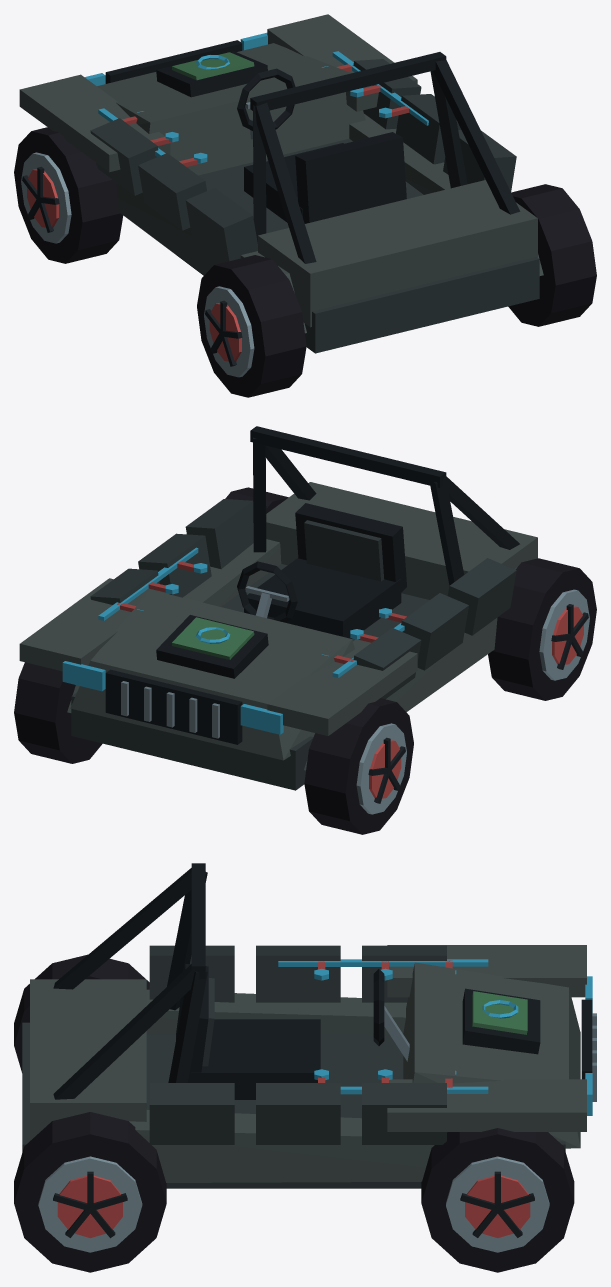
Rendered from kart.glb.
3 views of the same model, one above another, from view 1: azimuth 30°, elevation 25°; view 2: azimuth 150°, elevation 25°; view 3: azimuth 270°, elevation 25° (orthographic). The views are drawn at different scales.
Visible parts, largest first — view 1: identity-jeep-jeep-offroad-frame, identity-jeep-motif-armor, wheel-rear-left, wheel-front-left, identity-jeep-driver-cockpit, wheel-rear-right, identity-jeep-motif-scanner, identity-jeep-motif-circuit; view 2: identity-jeep-jeep-offroad-frame, identity-jeep-motif-armor, identity-jeep-driver-cockpit, wheel-rear-left, wheel-front-left, wheel-front-right, identity-jeep-motif-scanner, identity-jeep-motif-circuit, wheel-rear-right; view 3: identity-jeep-jeep-offroad-frame, identity-jeep-motif-armor, wheel-rear-right, wheel-front-right, identity-jeep-driver-cockpit, identity-jeep-motif-scanner, identity-jeep-motif-circuit, wheel-rear-left.
Part boxes in pixels (x1=…): identity-jeep-jeep-offroad-frame: x1=19, y1=14, x2=543, y2=353; identity-jeep-motif-armor: x1=90, y1=59, x2=516, y2=261; wheel-rear-left: x1=197, y1=255, x2=306, y2=397; wheel-front-left: x1=14, y1=127, x2=123, y2=263; identity-jeep-driver-cockpit: x1=237, y1=68, x2=406, y2=223; wheel-rear-right: x1=508, y1=184, x2=596, y2=326; identity-jeep-motif-scanner: x1=156, y1=51, x2=267, y2=97; identity-jeep-motif-circuit: x1=98, y1=51, x2=428, y2=166; identity-jeep-jeep-offroad-frame: x1=19, y1=426, x2=537, y2=790; identity-jeep-motif-armor: x1=90, y1=499, x2=516, y2=699; identity-jeep-driver-cockpit: x1=237, y1=503, x2=406, y2=638; wheel-rear-left: x1=488, y1=558, x2=596, y2=700; wheel-front-left: x1=304, y1=698, x2=413, y2=834; wheel-front-right: x1=14, y1=662, x2=102, y2=763; identity-jeep-motif-scanner: x1=156, y1=615, x2=268, y2=678; identity-jeep-motif-circuit: x1=98, y1=547, x2=406, y2=677; wheel-rear-right: x1=225, y1=487, x2=288, y2=513; identity-jeep-jeep-offroad-frame: x1=22, y1=863, x2=596, y2=1188; identity-jeep-motif-armor: x1=149, y1=945, x2=446, y2=1144; wheel-rear-right: x1=14, y1=1112, x2=166, y2=1272; wheel-front-right: x1=421, y1=1128, x2=574, y2=1272; identity-jeep-driver-cockpit: x1=176, y1=964, x2=409, y2=1099; identity-jeep-motif-scanner: x1=462, y1=988, x2=540, y2=1054; identity-jeep-motif-circuit: x1=278, y1=959, x2=488, y2=1094; wheel-rear-left: x1=14, y1=954, x2=149, y2=1072.
Size of the model in its own units: 2.13 by 1.39 by 2.75.
